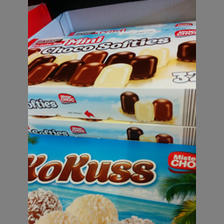chocolate: (28, 32, 196, 126), (28, 133, 196, 224)
